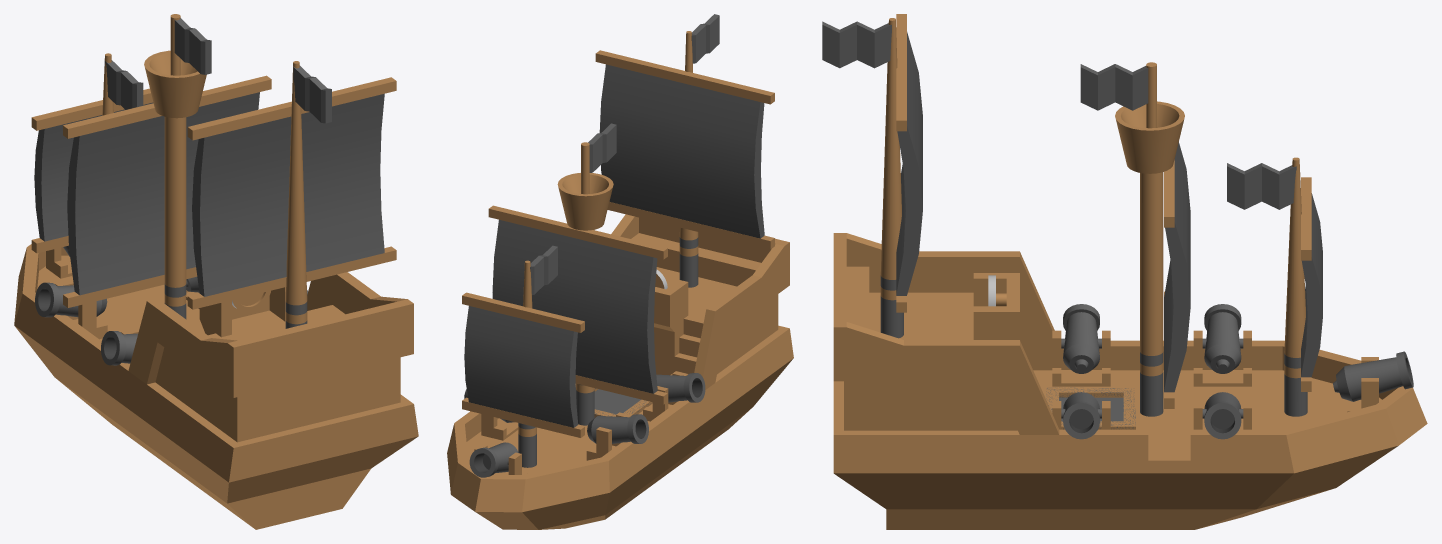
File: boat_002.dae
3 renders of one model, left to right at view 1: azimuth 30°, elevation 25°; view 2: azimuth 150°, elevation 25°; view 3: azimuth 270°, elevation 25°, orthographic. The views are drawn at different scales.
Visible parts, largest first — view 1: Group (×12), boat_002, Cannon_x0020_left, Cannon_x0020_front; view 2: Group (×13), boat_002, Cannon_x0020_left (×2), Cannon_x0020_right; view 3: boat_002, Group (×15), Cannon_x0020_left (×2), Cannon_x0020_front.
Boxes of the visible parts, <box> form: Group (×12): <box>31,14,396,365</box>; boat_002: <box>14,244,418,529</box>; Cannon_x0020_left: <box>55,280,107,339</box>; Cannon_x0020_front: <box>46,247,72,278</box>; Group (×13): <box>462,14,774,477</box>; boat_002: <box>447,214,793,529</box>; Cannon_x0020_left (×2): <box>586,371,688,460</box>; Cannon_x0020_right: <box>481,414,518,440</box>; boat_002: <box>833,233,1427,529</box>; Group (×15): <box>822,14,1413,439</box>; Cannon_x0020_left (×2): <box>1052,330,1251,386</box>; Cannon_x0020_front: <box>1347,357,1378,412</box>.
Size of the model in its own units: 3.77 by 8.01 by 9.
